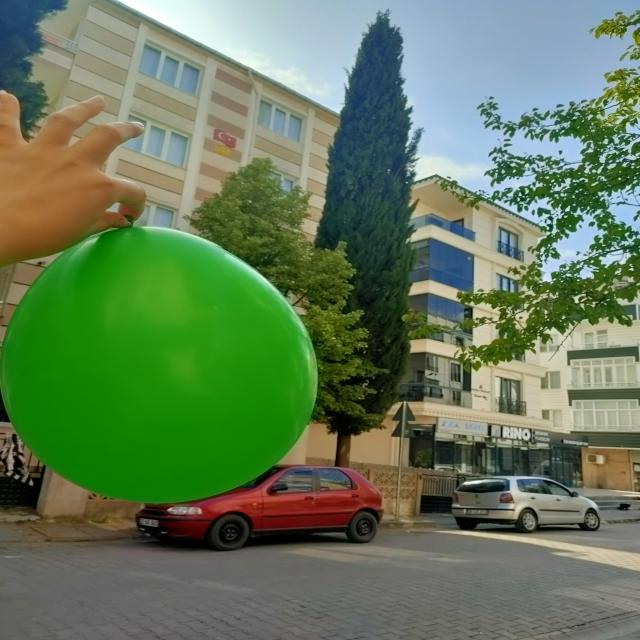green: (3, 221, 316, 505)
